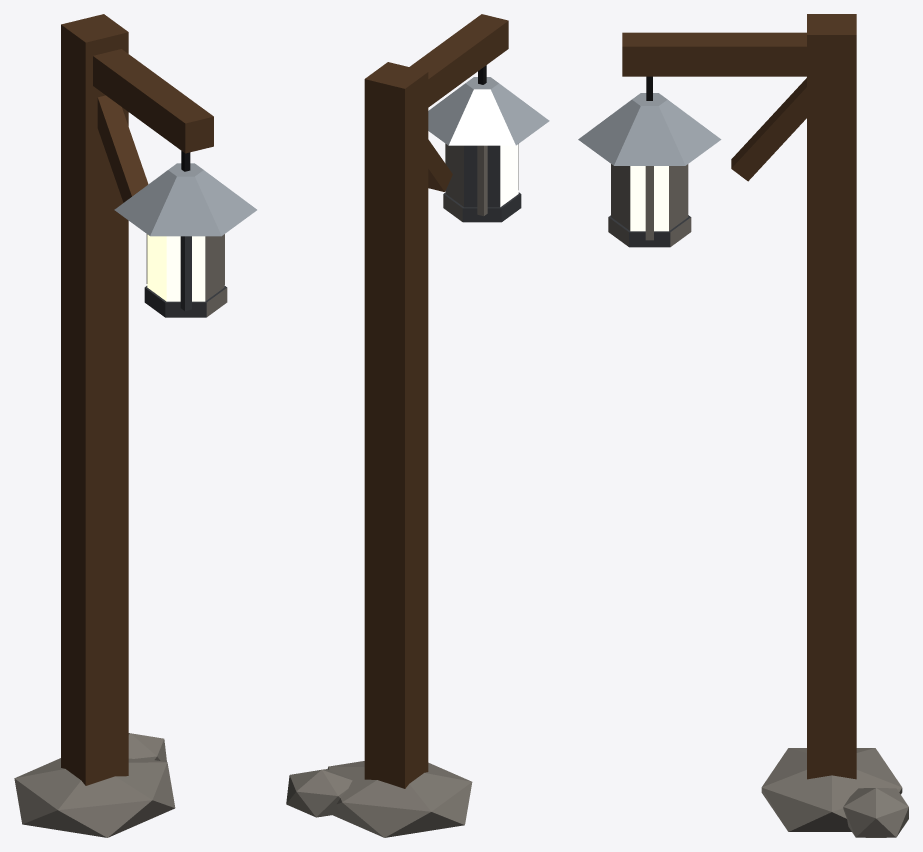
Rendered from Farol.fbx.
The picture shows the model from 3 angles, left to right: view 1: azimuth 30°, elevation 25°; view 2: azimuth 150°, elevation 25°; view 3: azimuth 270°, elevation 25°; orthographic projection. The views are drawn at different scales.
Visible parts, largest first — view 1: Farol; view 2: Farol; view 3: Farol.
Part boxes in pixels (<box>): Farol: <box>14,14,256,837</box>; Farol: <box>286,14,549,837</box>; Farol: <box>578,14,908,837</box>.
Size of the model in its own units: 0.3436 by 1.59 by 0.5995.
